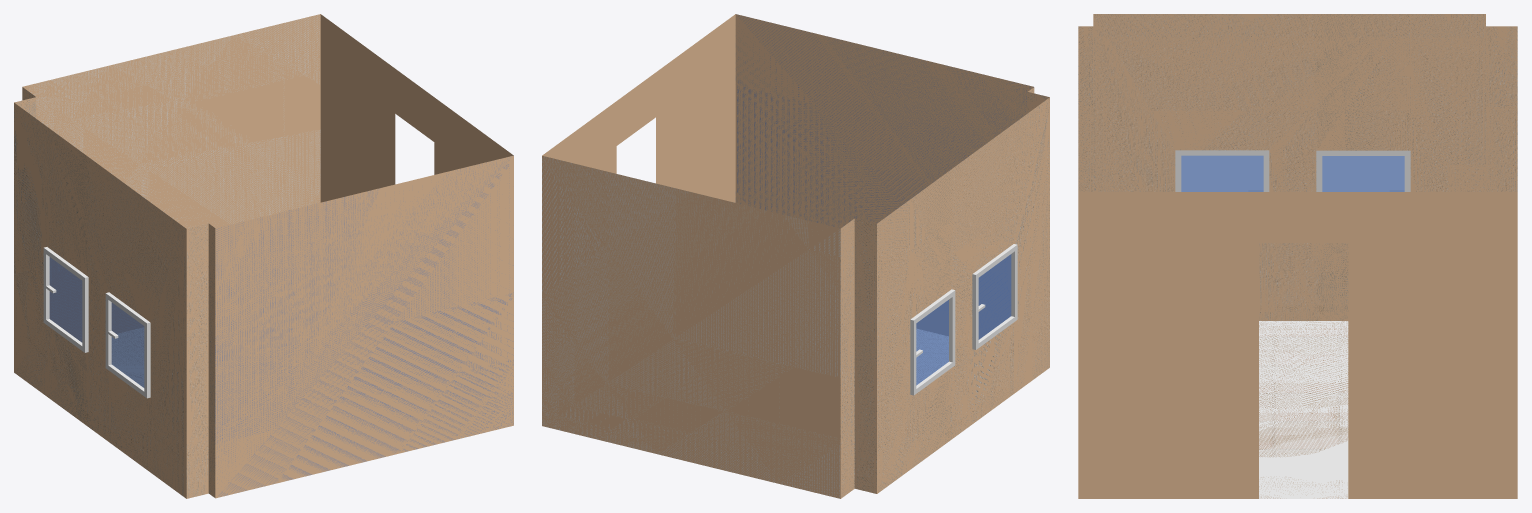
File: DES030.obj
The picture shows the model from 3 angles, left to right: view 1: azimuth 30°, elevation 25°; view 2: azimuth 150°, elevation 25°; view 3: azimuth 270°, elevation 25°; orthographic projection. The views are drawn at different scales.
Parts seen in each view (by area): view 1: Mesh7 DES030 Model, Mesh1 ventana3_1_1 DES030 Model, Mesh4 ventana3_1_2 DES030 Model; view 2: Mesh7 DES030 Model, Mesh1 ventana3_1_1 DES030 Model, Mesh4 ventana3_1_2 DES030 Model; view 3: Mesh7 DES030 Model, Mesh1 ventana3_1_1 DES030 Model, Mesh4 ventana3_1_2 DES030 Model.
Part boxes in pixels (<box>): Mesh7 DES030 Model: <box>14,14,513,498</box>; Mesh1 ventana3_1_1 DES030 Model: <box>105,292,150,398</box>; Mesh4 ventana3_1_2 DES030 Model: <box>43,247,88,352</box>; Mesh7 DES030 Model: <box>542,14,1049,498</box>; Mesh1 ventana3_1_1 DES030 Model: <box>972,244,1017,349</box>; Mesh4 ventana3_1_2 DES030 Model: <box>910,289,955,395</box>; Mesh7 DES030 Model: <box>1078,14,1517,498</box>; Mesh1 ventana3_1_1 DES030 Model: <box>1175,150,1269,191</box>; Mesh4 ventana3_1_2 DES030 Model: <box>1316,150,1410,191</box>.
Size of the model in its own units: 4.52 by 3.6 by 4.67.
7 materials, 2 textured.
